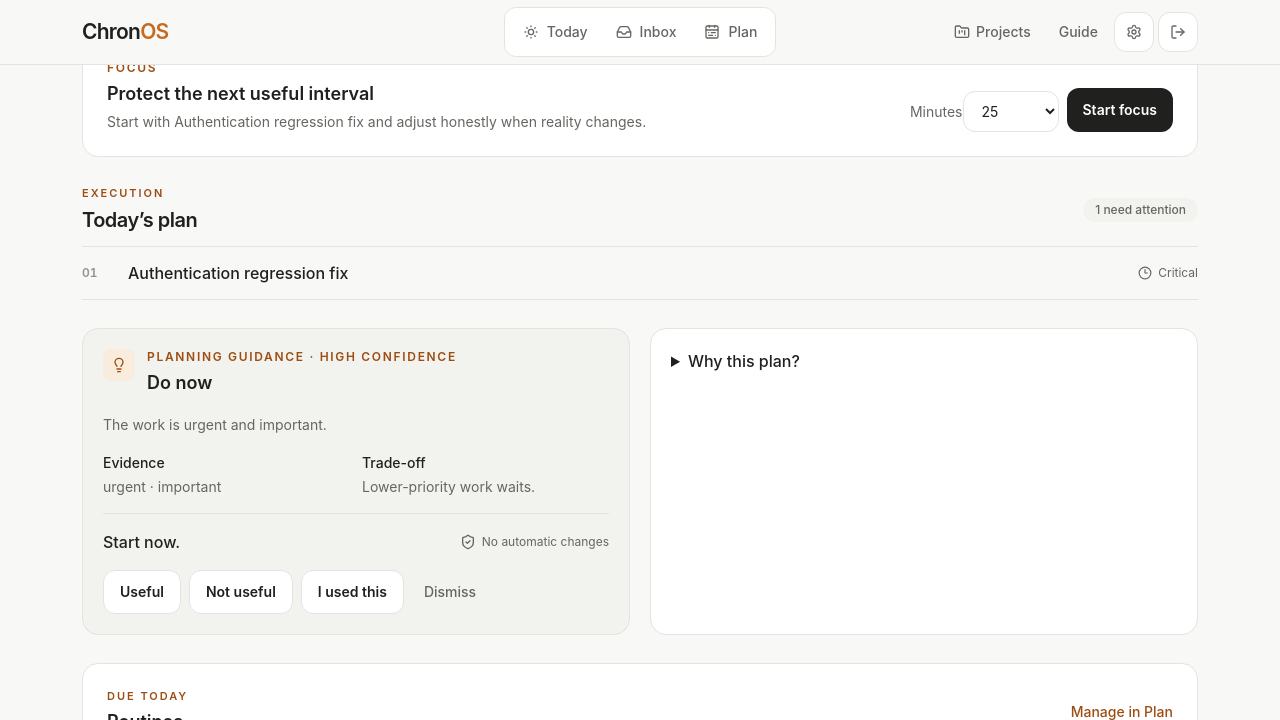
Test: shows compact plan transparency without hidden reasoning
The width and height of the screenshot is (1280, 720).
(page scrolled)
Click the heading "Why this plan?".
click(744, 361)  # box [688,351,800,371]
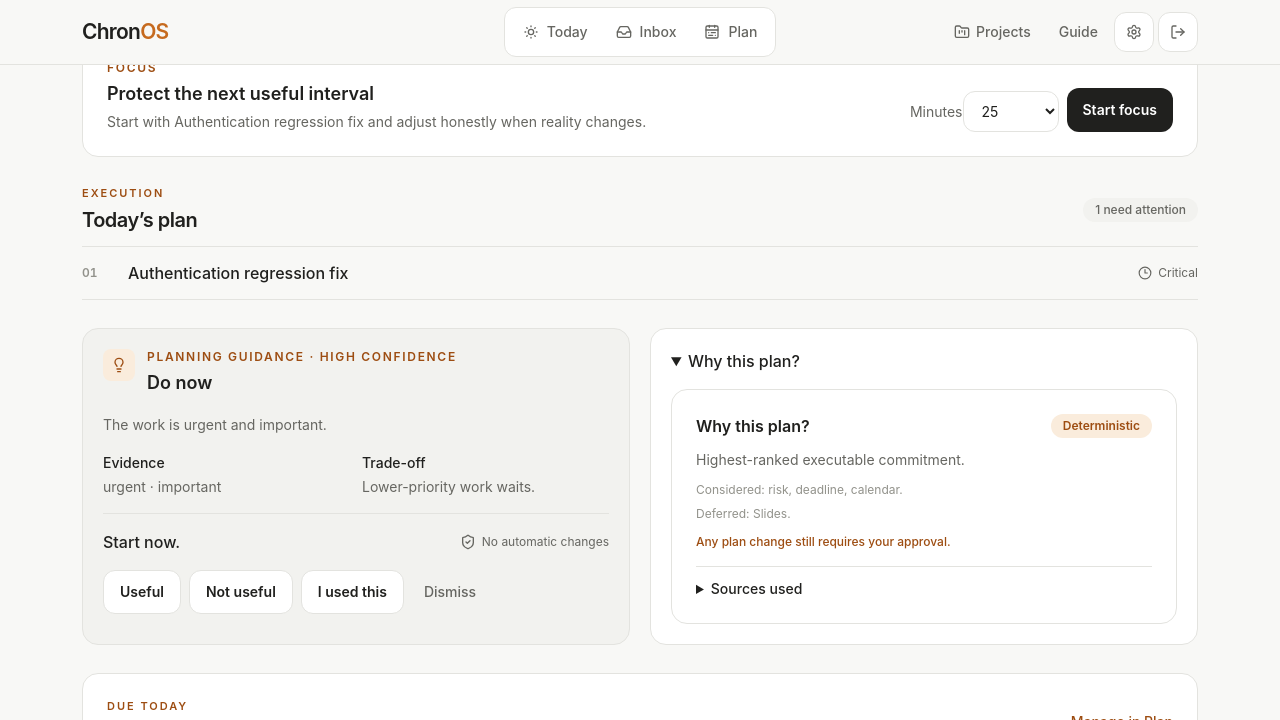
Now the heading "Why this plan?" in the row of "Deterministic" is shown, box [696,414,810,438]
Now the text "Deterministic" is shown, box [1051,414,1152,438]
Now the text "Any plan change still requires your approval." is shown, box [696,534,951,549]
Click the heading "Sources used".
click(757, 588)  # box [711,580,802,597]
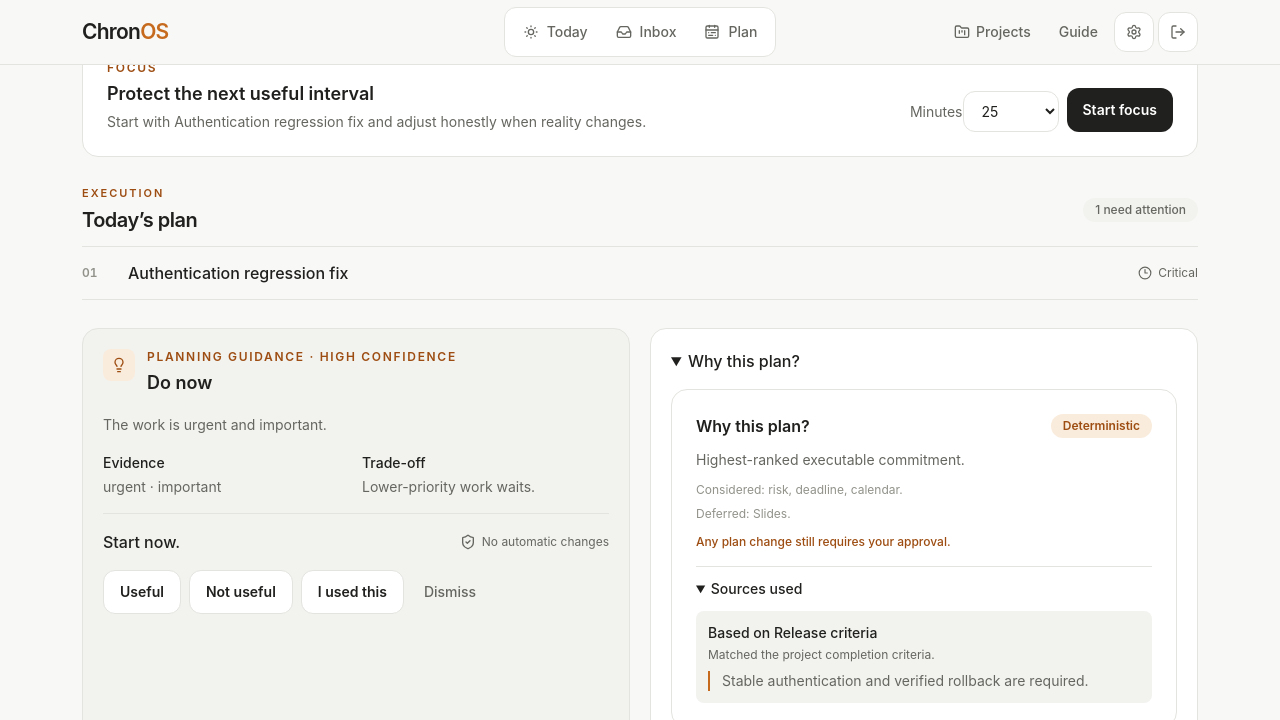
Now the text "Based on Release criteria" is shown, box [708,624,877,641]
Now the text "Stable authentication and verified rollback are required." is shown, box [708,671,1140,691]
